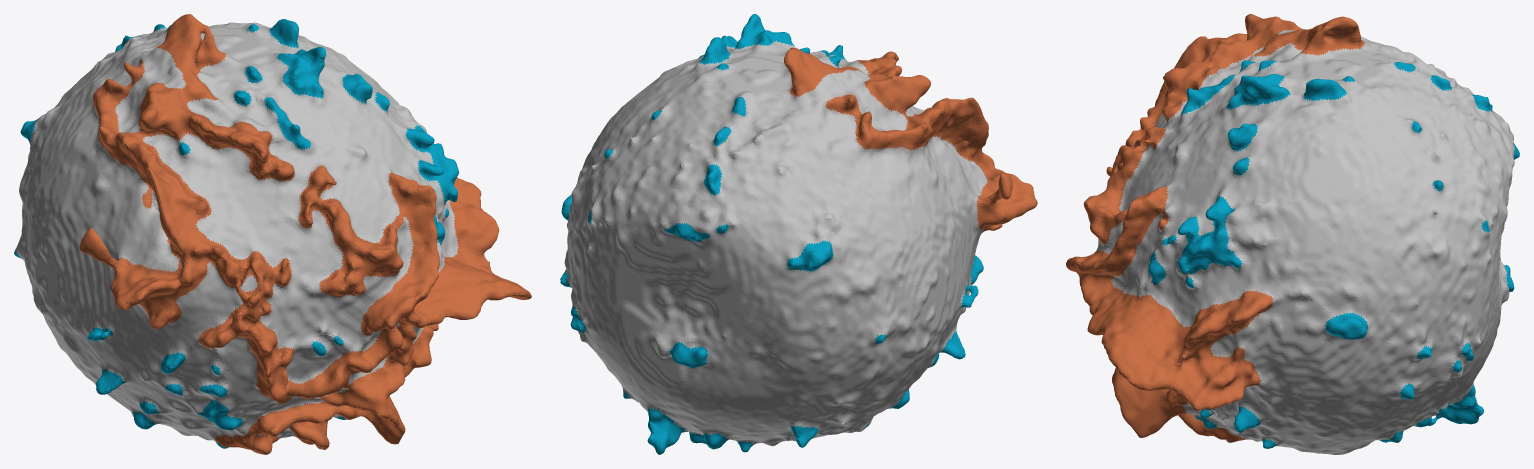
The picture shows the model from 3 angles, left to right: view 1: azimuth 30°, elevation 25°; view 2: azimuth 150°, elevation 25°; view 3: azimuth 270°, elevation 25°; orthographic projection. The views are drawn at different scales.
Size of the model in its own units: 165 by 157 by 159.
